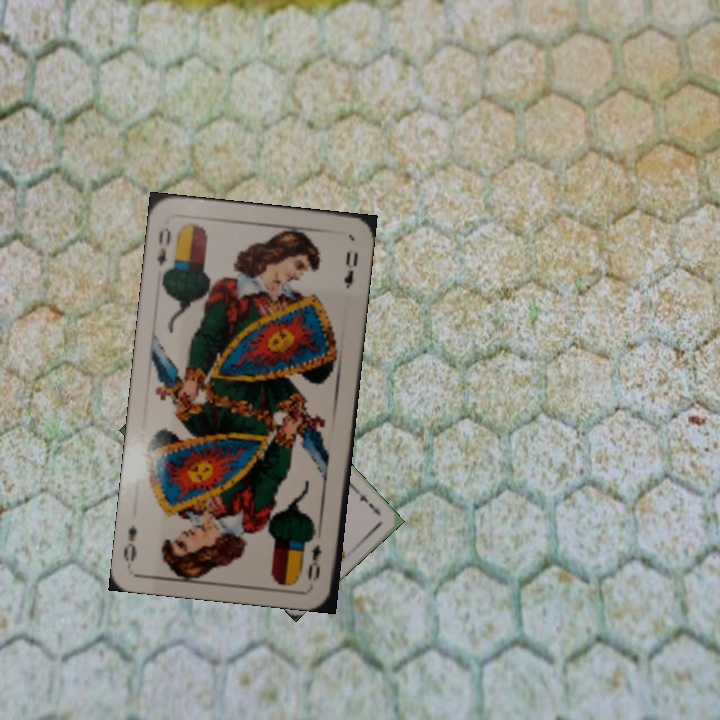E7: (354, 487, 384, 518)
EO: (153, 223, 177, 278), (303, 540, 324, 583)
